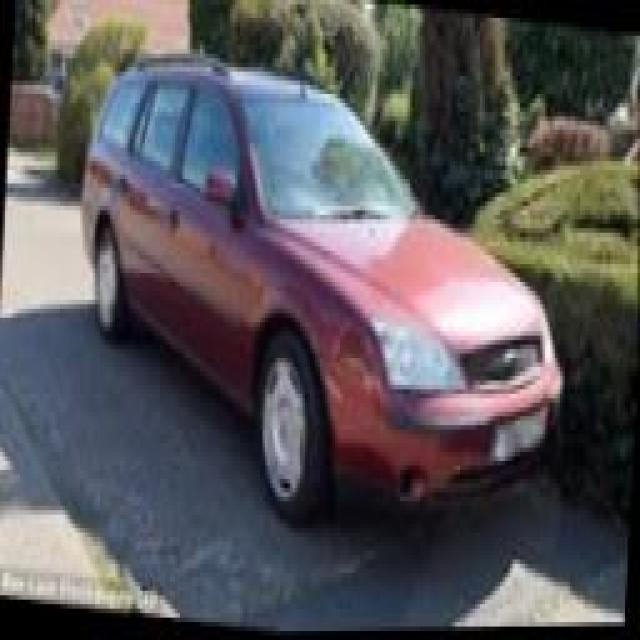Bumper: (318, 358, 403, 511)
Fender: (283, 257, 390, 381)
